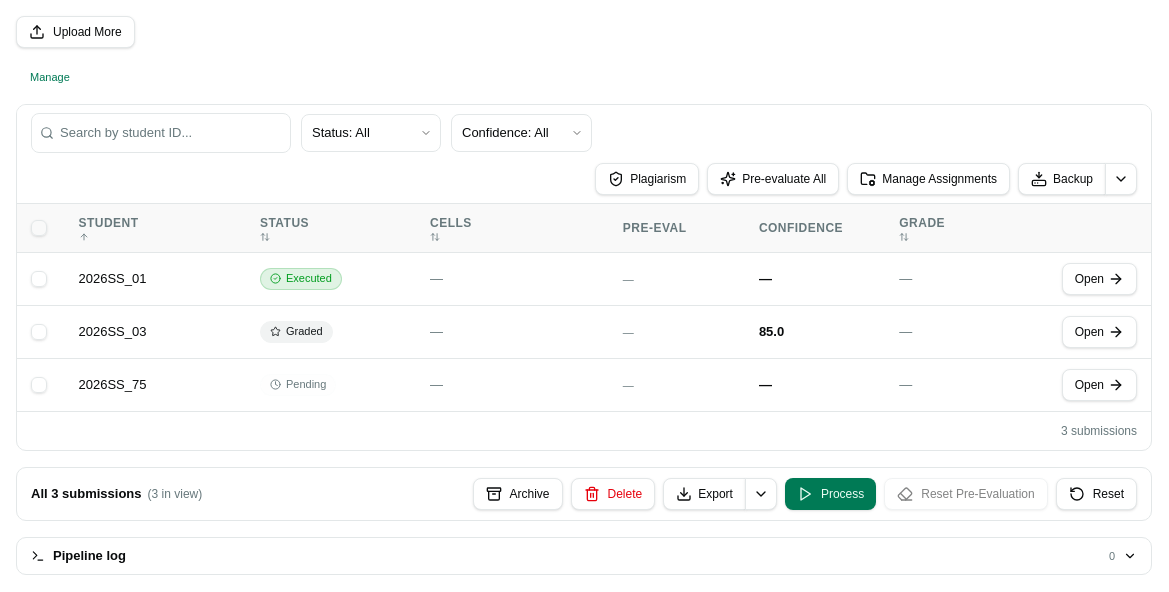
Scenario: submissions dashboard bulk bar › archives the selected rows via the store
Expected: the link "2026SS_01" is shown, [78,271,146,286]
Click the checkbox named "Select 2026SS_01" at [39, 279], box [31,271,47,287]
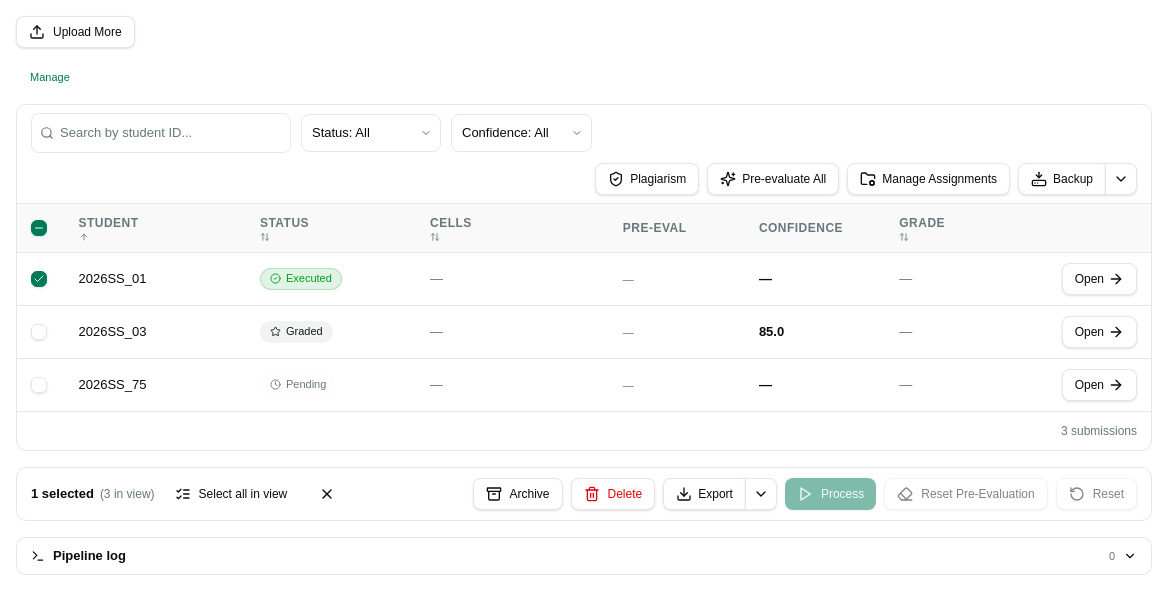
Click the button "Archive" at [518, 494], box [472,478,562,510]
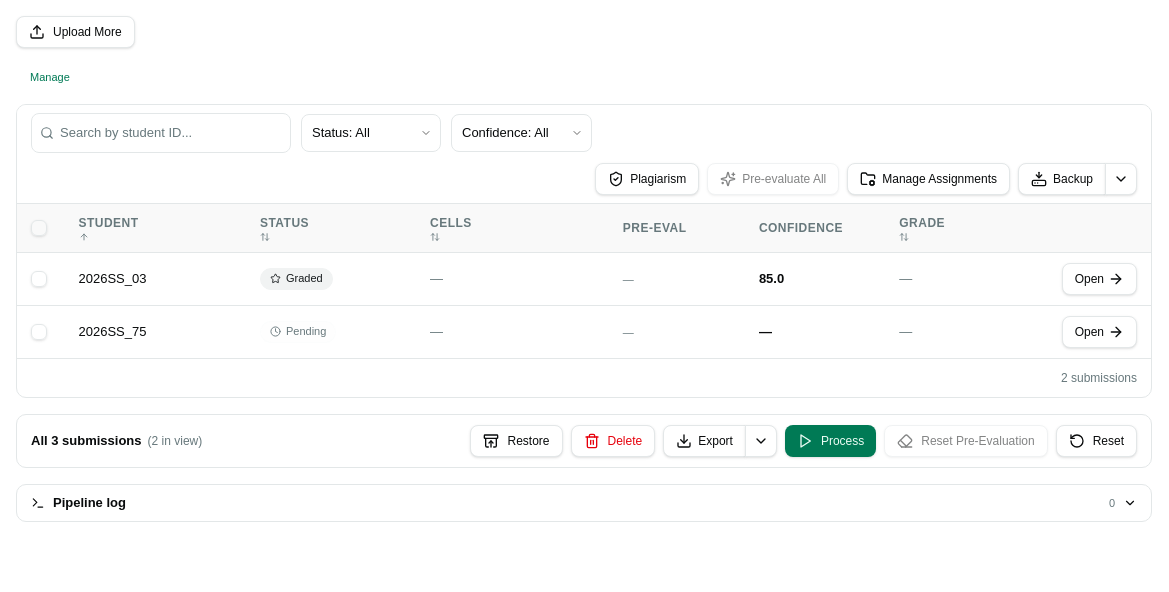
Expected: the link "2026SS_01" is gone
